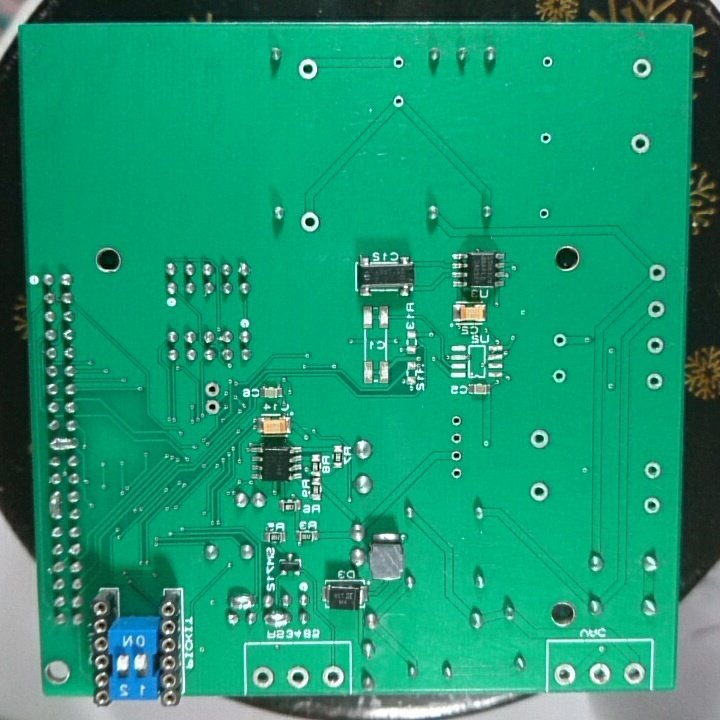F: (285, 663, 311, 693), (586, 661, 614, 686), (622, 660, 648, 686), (552, 661, 577, 688), (319, 663, 344, 690), (251, 664, 276, 691), (296, 56, 320, 81), (528, 427, 552, 451), (631, 55, 654, 80), (629, 131, 652, 155), (528, 480, 550, 503), (299, 209, 320, 233), (644, 334, 666, 356), (647, 262, 668, 285), (644, 458, 664, 480), (646, 298, 665, 320), (645, 372, 665, 392), (201, 397, 222, 416), (551, 331, 570, 351), (642, 495, 661, 515), (203, 379, 222, 399), (551, 367, 568, 388), (448, 429, 465, 448), (391, 52, 407, 72), (391, 91, 406, 112), (539, 52, 554, 73), (448, 465, 465, 483), (448, 447, 465, 464), (538, 129, 554, 147), (537, 205, 552, 222), (448, 412, 463, 427)
P: (260, 609, 291, 629), (47, 489, 65, 523), (227, 592, 257, 612), (46, 435, 77, 452)
